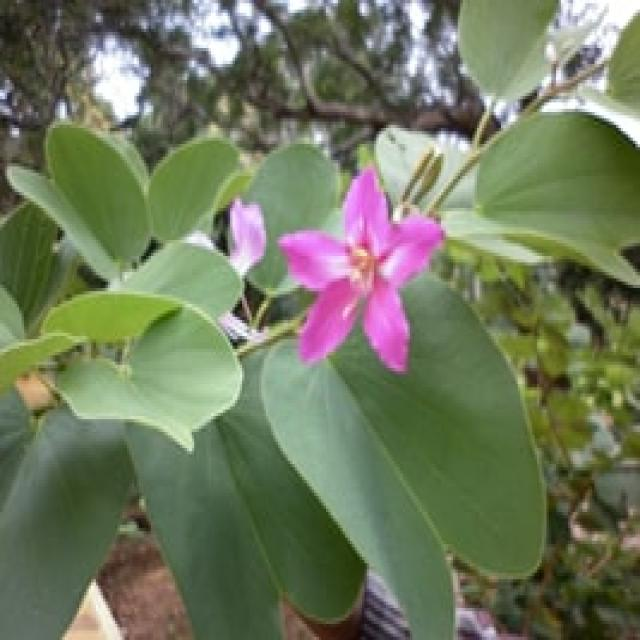Gugal: (23, 177, 532, 640), (164, 48, 640, 438)
